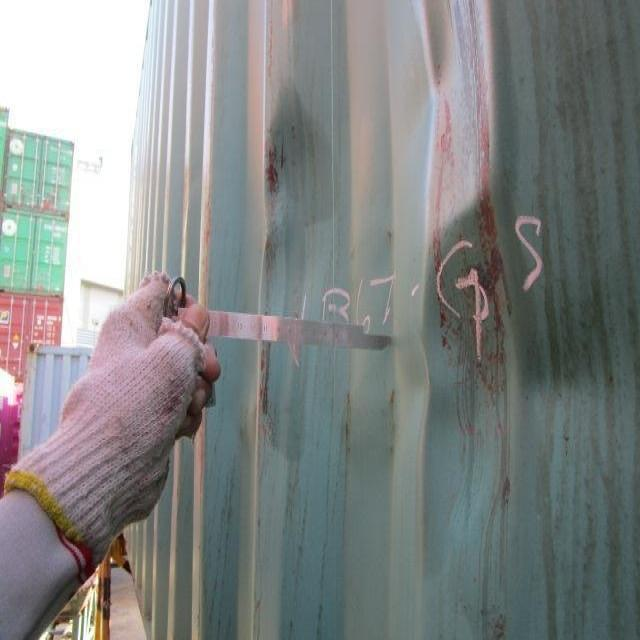dent: (201, 97, 599, 571)
